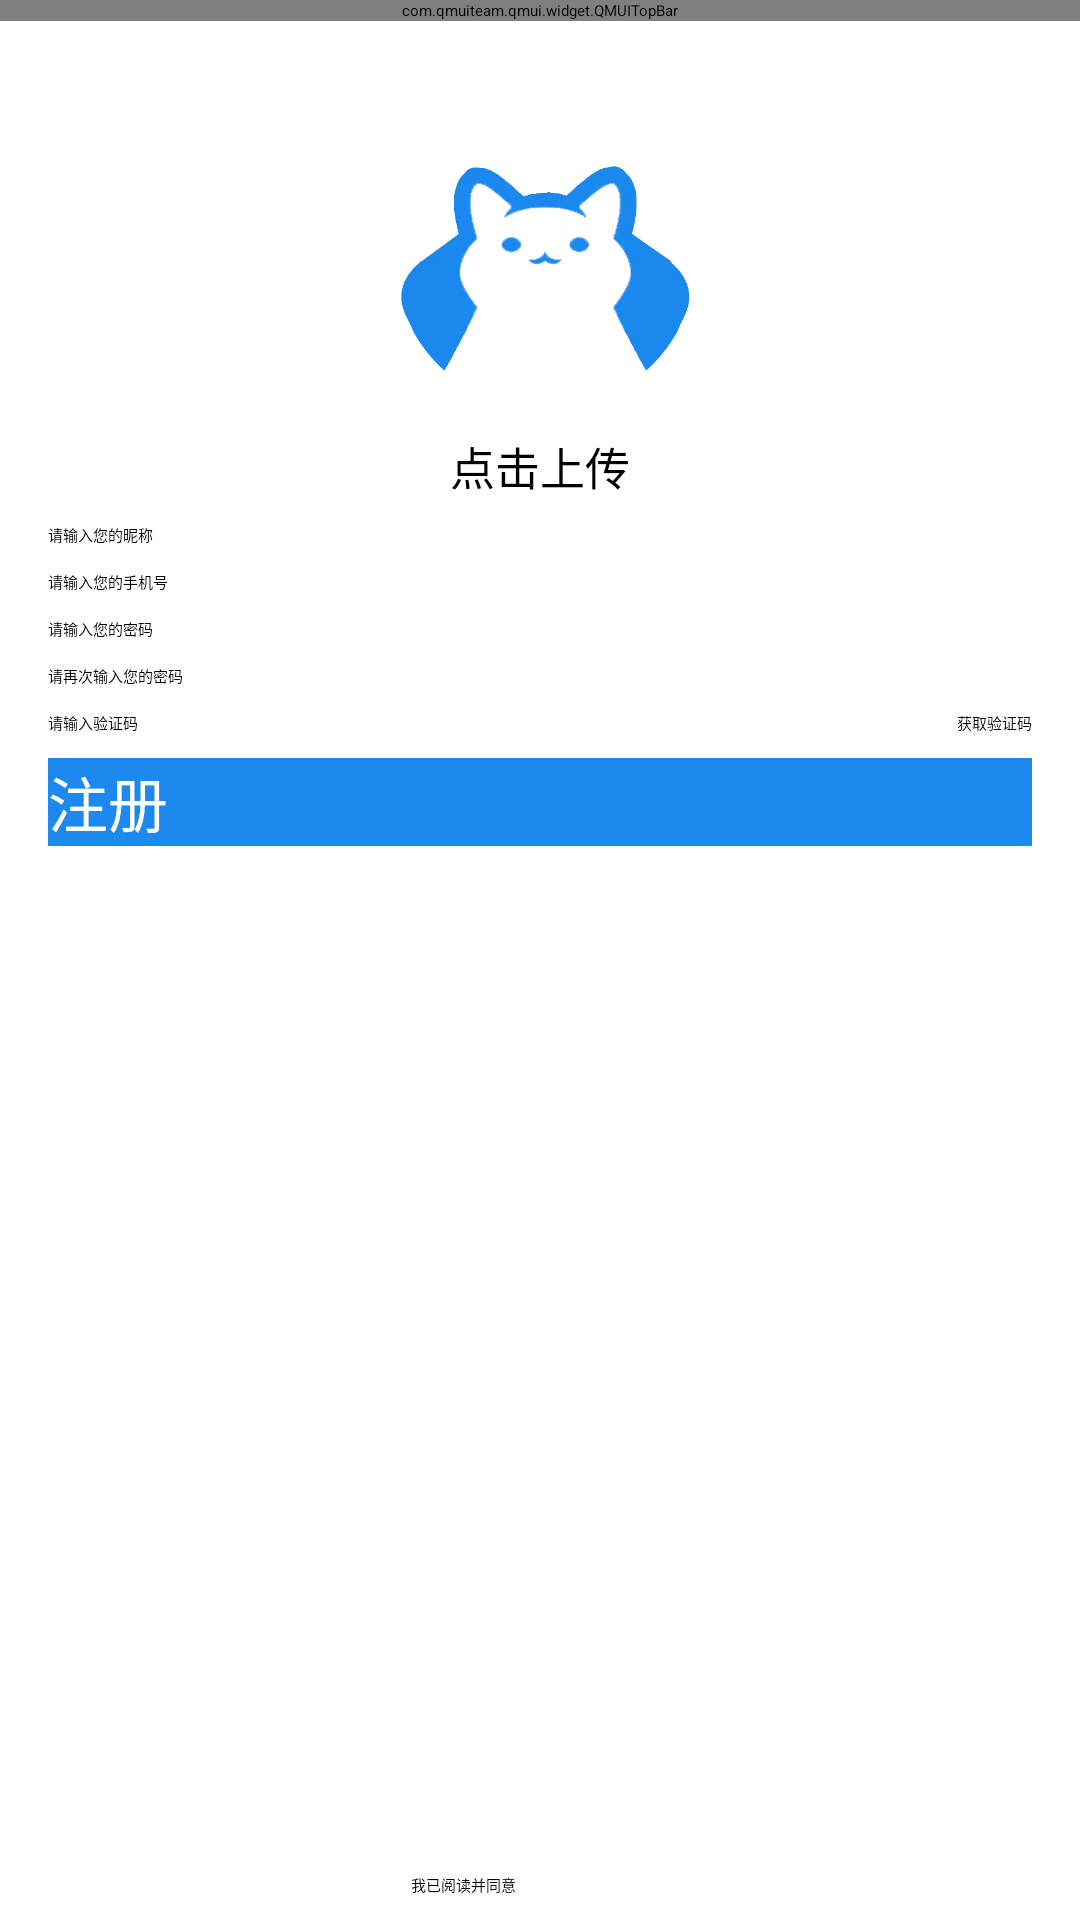

Icons on this 1080px x 1920px Android screen, each with its box as region(x1, y1, x2, y2):
catmiao: region(401, 166, 689, 371)
